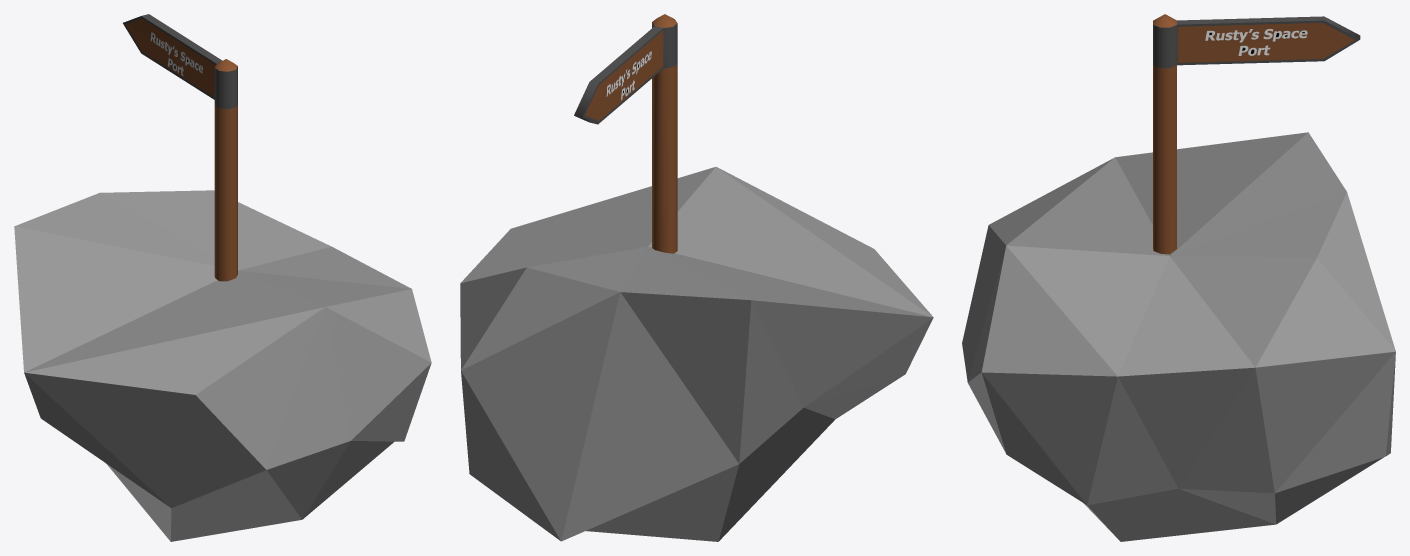
Rendered from sign.FBX.
3 renders of one model, left to right at view 1: azimuth 30°, elevation 25°; view 2: azimuth 150°, elevation 25°; view 3: azimuth 270°, elevation 25°, orthographic. The views are drawn at different scales.
Visible parts, largest first — view 1: GeoSphere004, Cylinder050; view 2: GeoSphere004, Cylinder050; view 3: GeoSphere004, Cylinder050.
Part boxes in pixels (bbox=[...]): GeoSphere004: bbox=[14, 190, 431, 541]; Cylinder050: bbox=[123, 14, 237, 281]; GeoSphere004: bbox=[460, 166, 933, 541]; Cylinder050: bbox=[574, 14, 677, 253]; GeoSphere004: bbox=[962, 132, 1395, 541]; Cylinder050: bbox=[1153, 14, 1360, 254].
Size of the model in its own units: 380 by 441 by 338.
